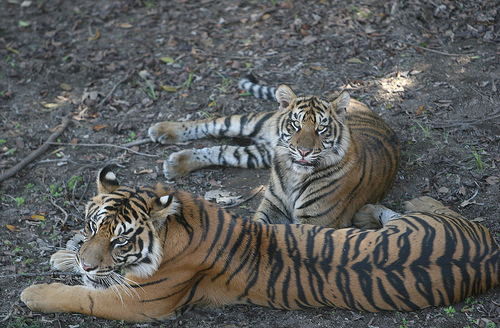Tigre: (56, 175, 480, 328), (172, 83, 407, 236)
